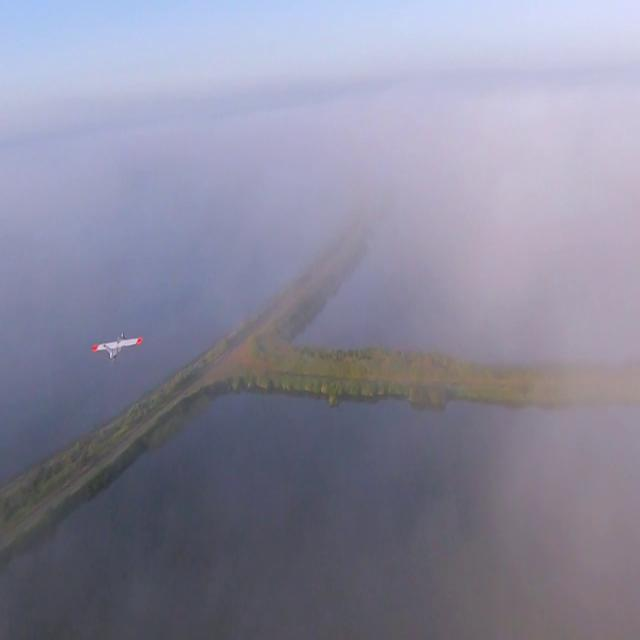iha: (24, 331, 81, 365)
